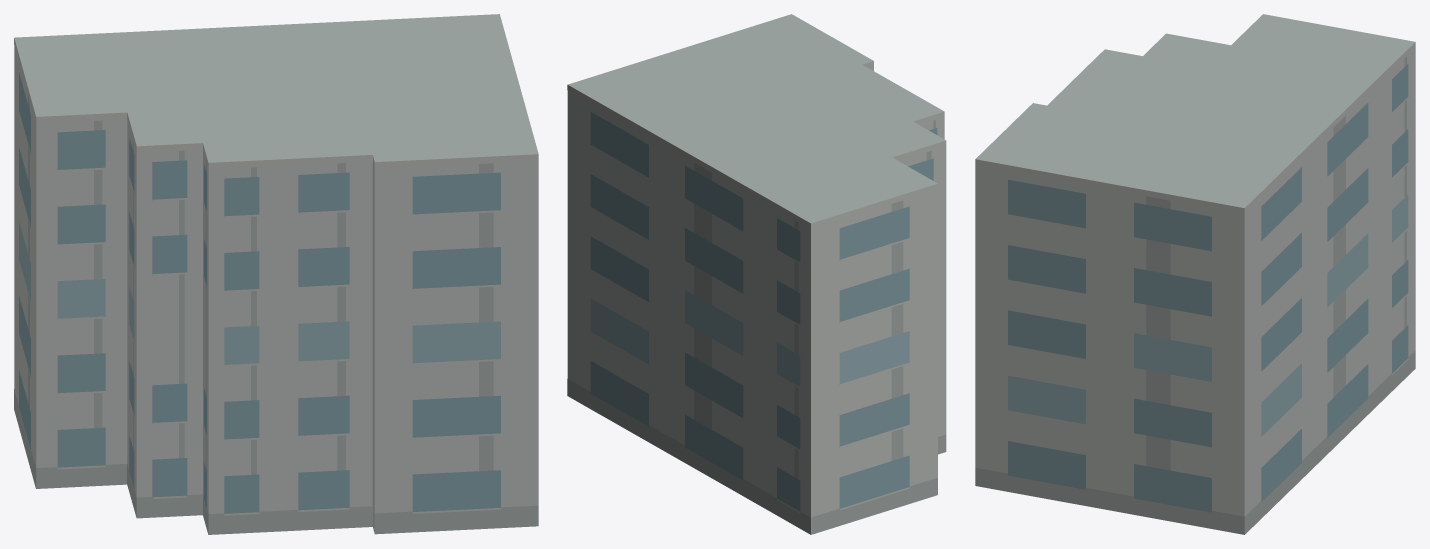
File: survey-upis-32809157.glb
The picture shows the model from 3 angles, left to right: view 1: azimuth 30°, elevation 25°; view 2: azimuth 150°, elevation 25°; view 3: azimuth 270°, elevation 25°; orthographic projection. The views are drawn at different scales.
Parts seen in each view (by area): view 1: survey-upis-32809157.tmp; view 2: survey-upis-32809157.tmp; view 3: survey-upis-32809157.tmp.
Part boxes in pixels (x1=…): survey-upis-32809157.tmp: x1=14, y1=14, x2=538, y2=534; survey-upis-32809157.tmp: x1=567, y1=14, x2=946, y2=534; survey-upis-32809157.tmp: x1=975, y1=14, x2=1415, y2=534.
Bounding box in the file's own units: 17.09 × 13.4 × 16.38.
